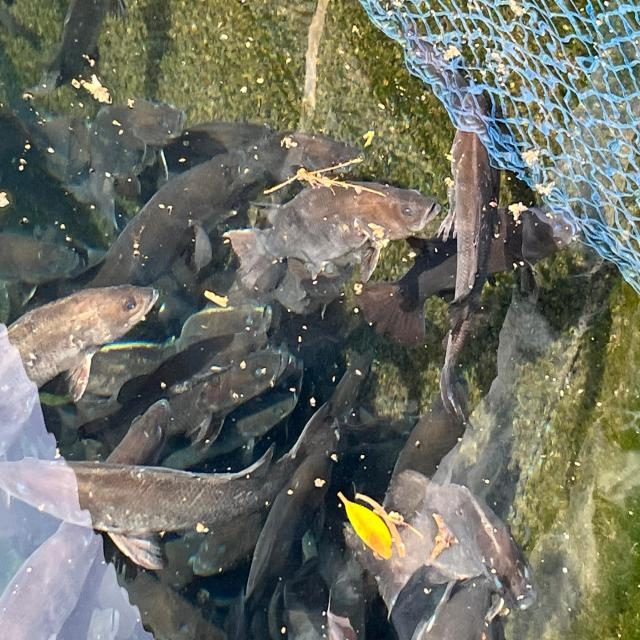ikan: (1, 345, 376, 598), (88, 123, 364, 292), (222, 176, 442, 300), (5, 282, 160, 404), (413, 480, 537, 611)
